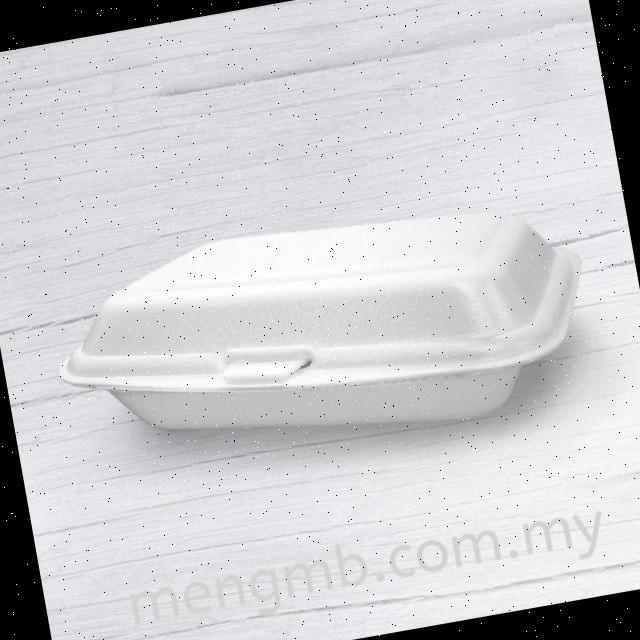styrofoam: (39, 174, 605, 490)
